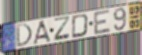9: (112, 7, 128, 32)
A: (32, 19, 52, 45)
D: (71, 13, 90, 39), (15, 23, 33, 48)
E: (93, 9, 112, 37)
Z: (53, 15, 72, 42)
